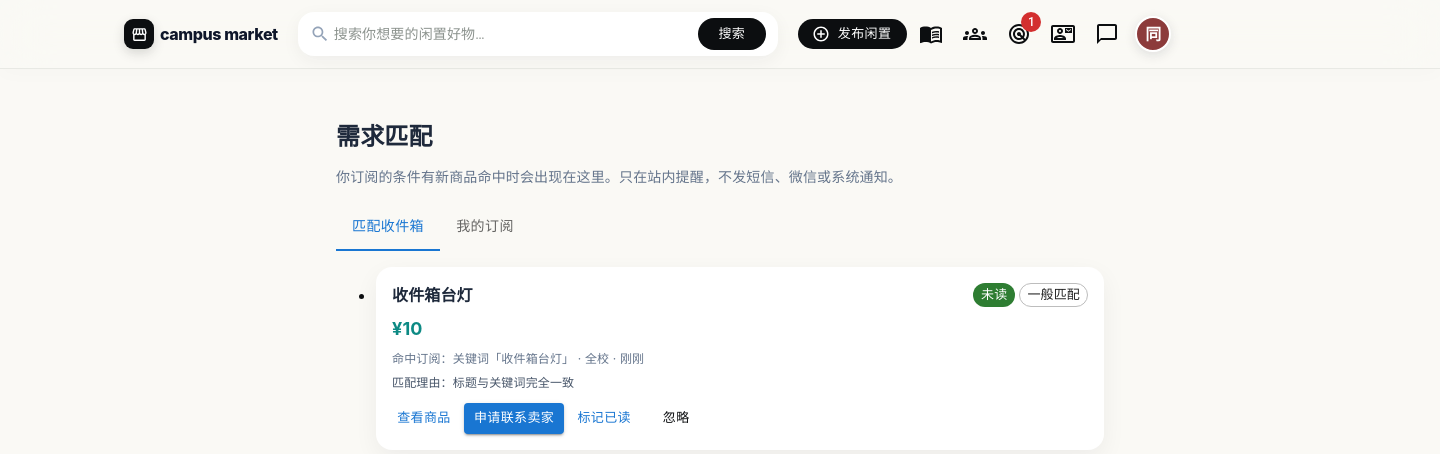
Test: 2.4 收件箱 › 8. 标记已读后导航栏角标与列表同步更新
The width and height of the screenshot is (1440, 454).
Expected: the button named "需求匹配，1 条未读" is shown, [999, 14, 1039, 54]
Click the button "标记已读" at (604, 418), box [572, 403, 636, 434]
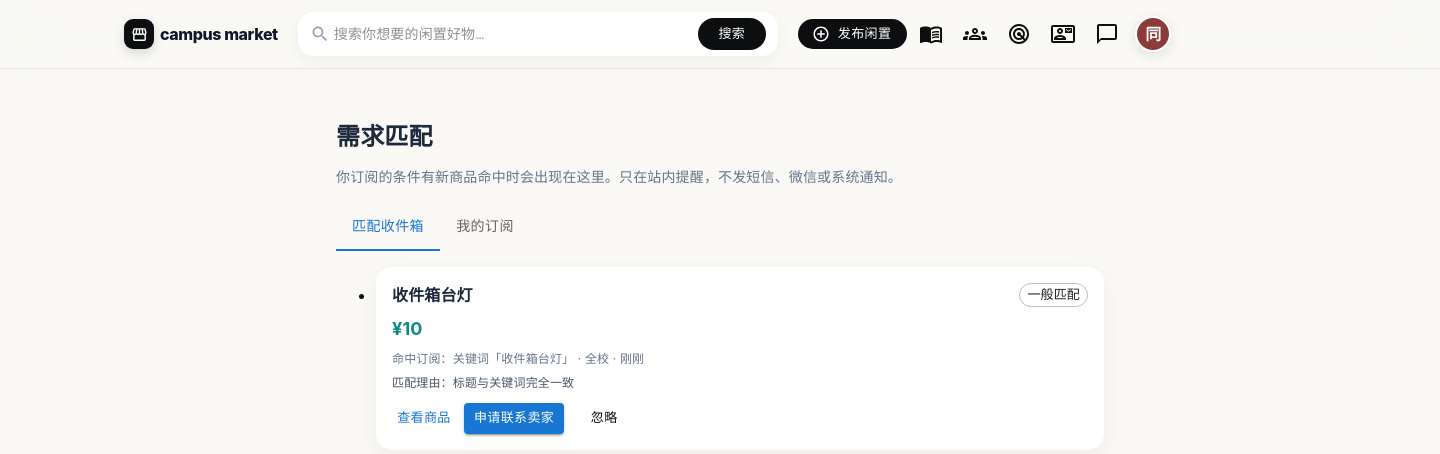
Expected: the button named "需求匹配" is shown, [999, 14, 1039, 54]
Now the text "未读" is gone
